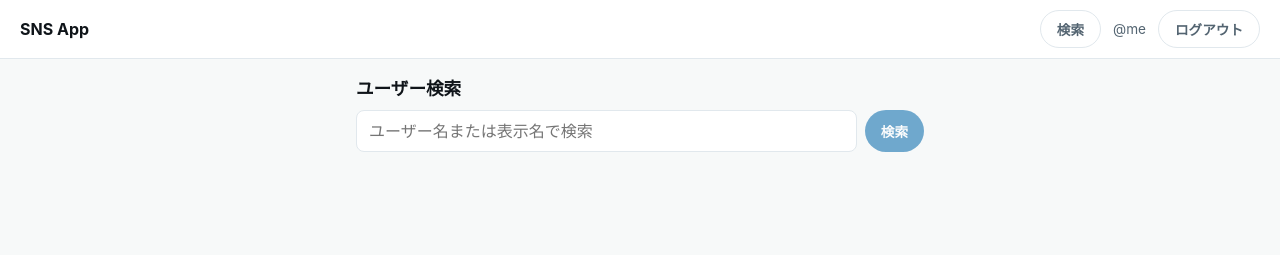
Test: SearchPage › searching shows matching users
Type "bob" into the field with placeholder "ユーザー名または表示名で検索" at (606, 131), box [356,110,857,152]
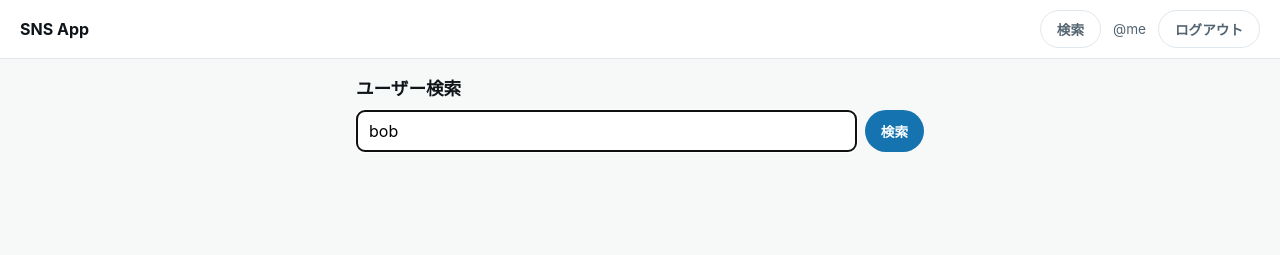
Click the button "検索" at (894, 131), box [865,110,924,152]
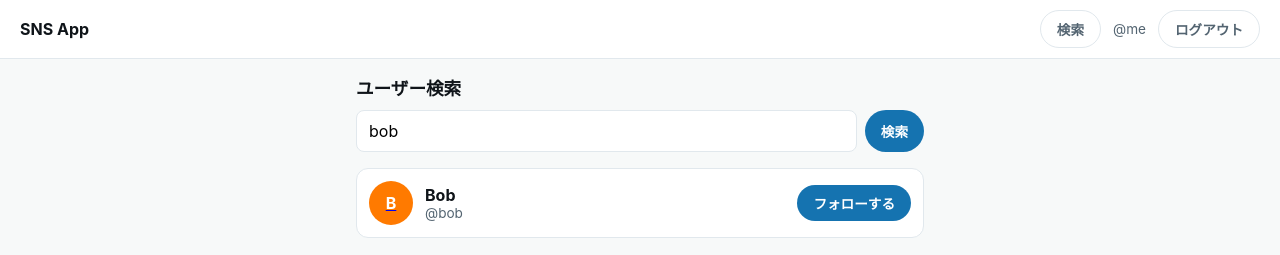
Check: the text "@bob" is shown, box [425,205,463,221]
